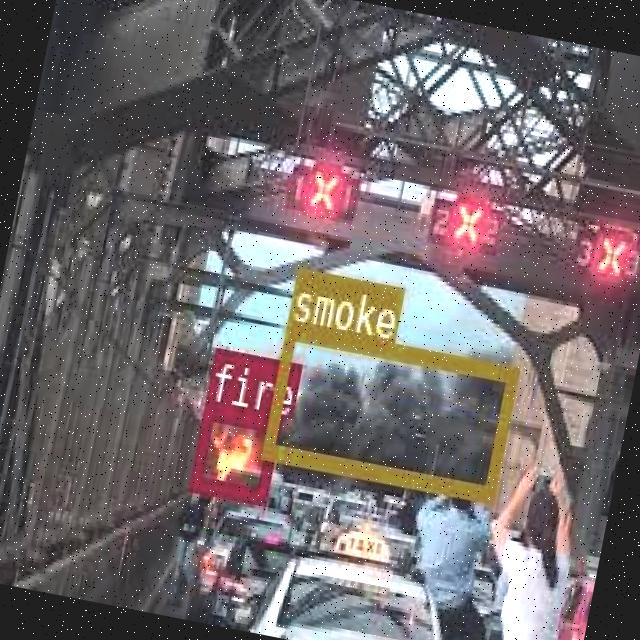fire: (188, 402, 281, 501)
smoke: (260, 320, 518, 500)
